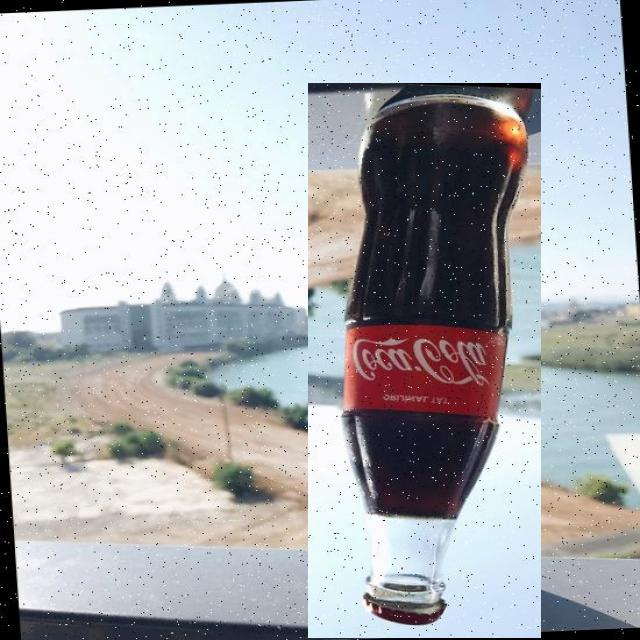coca-cola: (308, 83, 541, 638)
